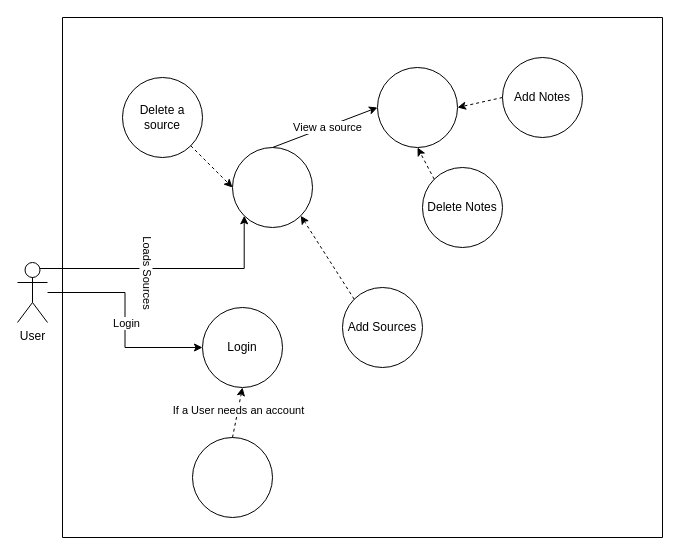
This 680x555 diagram has some shape labels left out. The box of each missing label's shape, as (x1, y1, x2, y2) in pixels:
Create New User: (192, 436, 272, 518)
Source Explorer: (232, 146, 312, 228)
Source/Notes Viewer: (376, 66, 458, 148)
